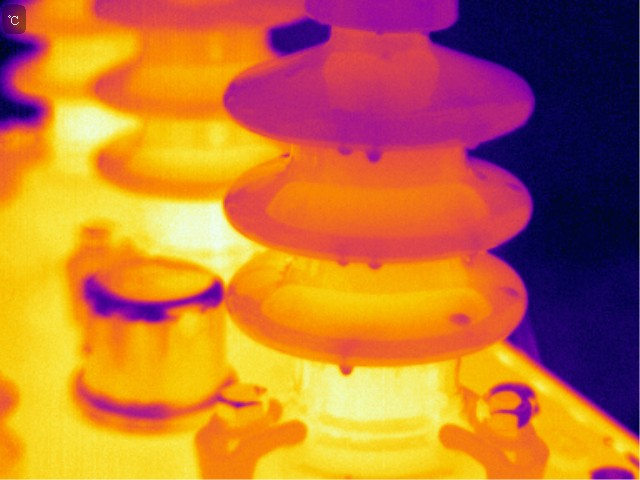Water: (468, 165, 493, 186), (449, 312, 476, 327), (506, 175, 523, 197), (364, 147, 384, 164), (336, 144, 355, 160), (339, 361, 355, 379), (365, 258, 385, 271), (500, 287, 520, 299), (335, 255, 352, 269)
